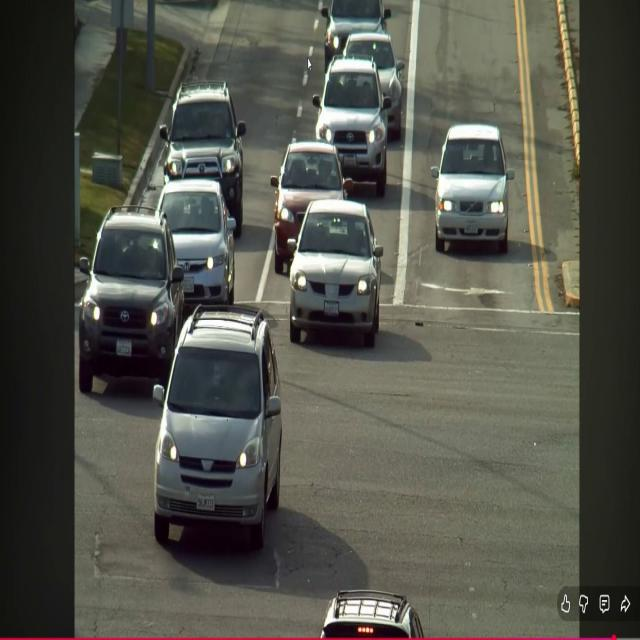car: (153, 306, 282, 550), (79, 206, 183, 393), (288, 200, 383, 347), (159, 80, 246, 238), (312, 56, 391, 197), (431, 124, 514, 254), (271, 141, 352, 274), (157, 181, 235, 314), (344, 32, 405, 139), (320, 0, 391, 72), (321, 591, 424, 638)
